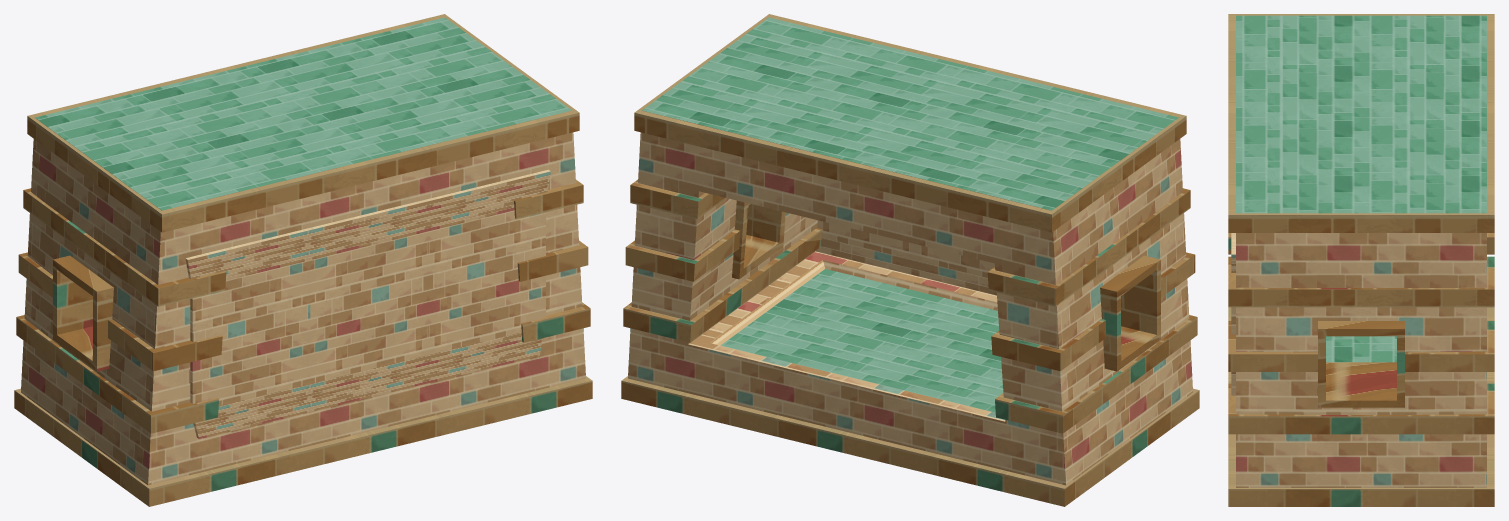
File: MayanRoomCorridor.fbx
The picture shows the model from 3 angles, left to right: view 1: azimuth 30°, elevation 25°; view 2: azimuth 150°, elevation 25°; view 3: azimuth 270°, elevation 25°; orthographic projection.
Visible parts, largest first — view 1: Cube.006; view 2: Cube.006; view 3: Cube.006.
Boxes of the visible parts, x1,y1,x2,y2 form: Cube.006: (14,14,592,506); Cube.006: (621,14,1199,506); Cube.006: (1228,14,1494,506).
Bounding box in the file's own units: 5283 × 3196 × 2698.
Materials: 3 (3 with a texture image).
